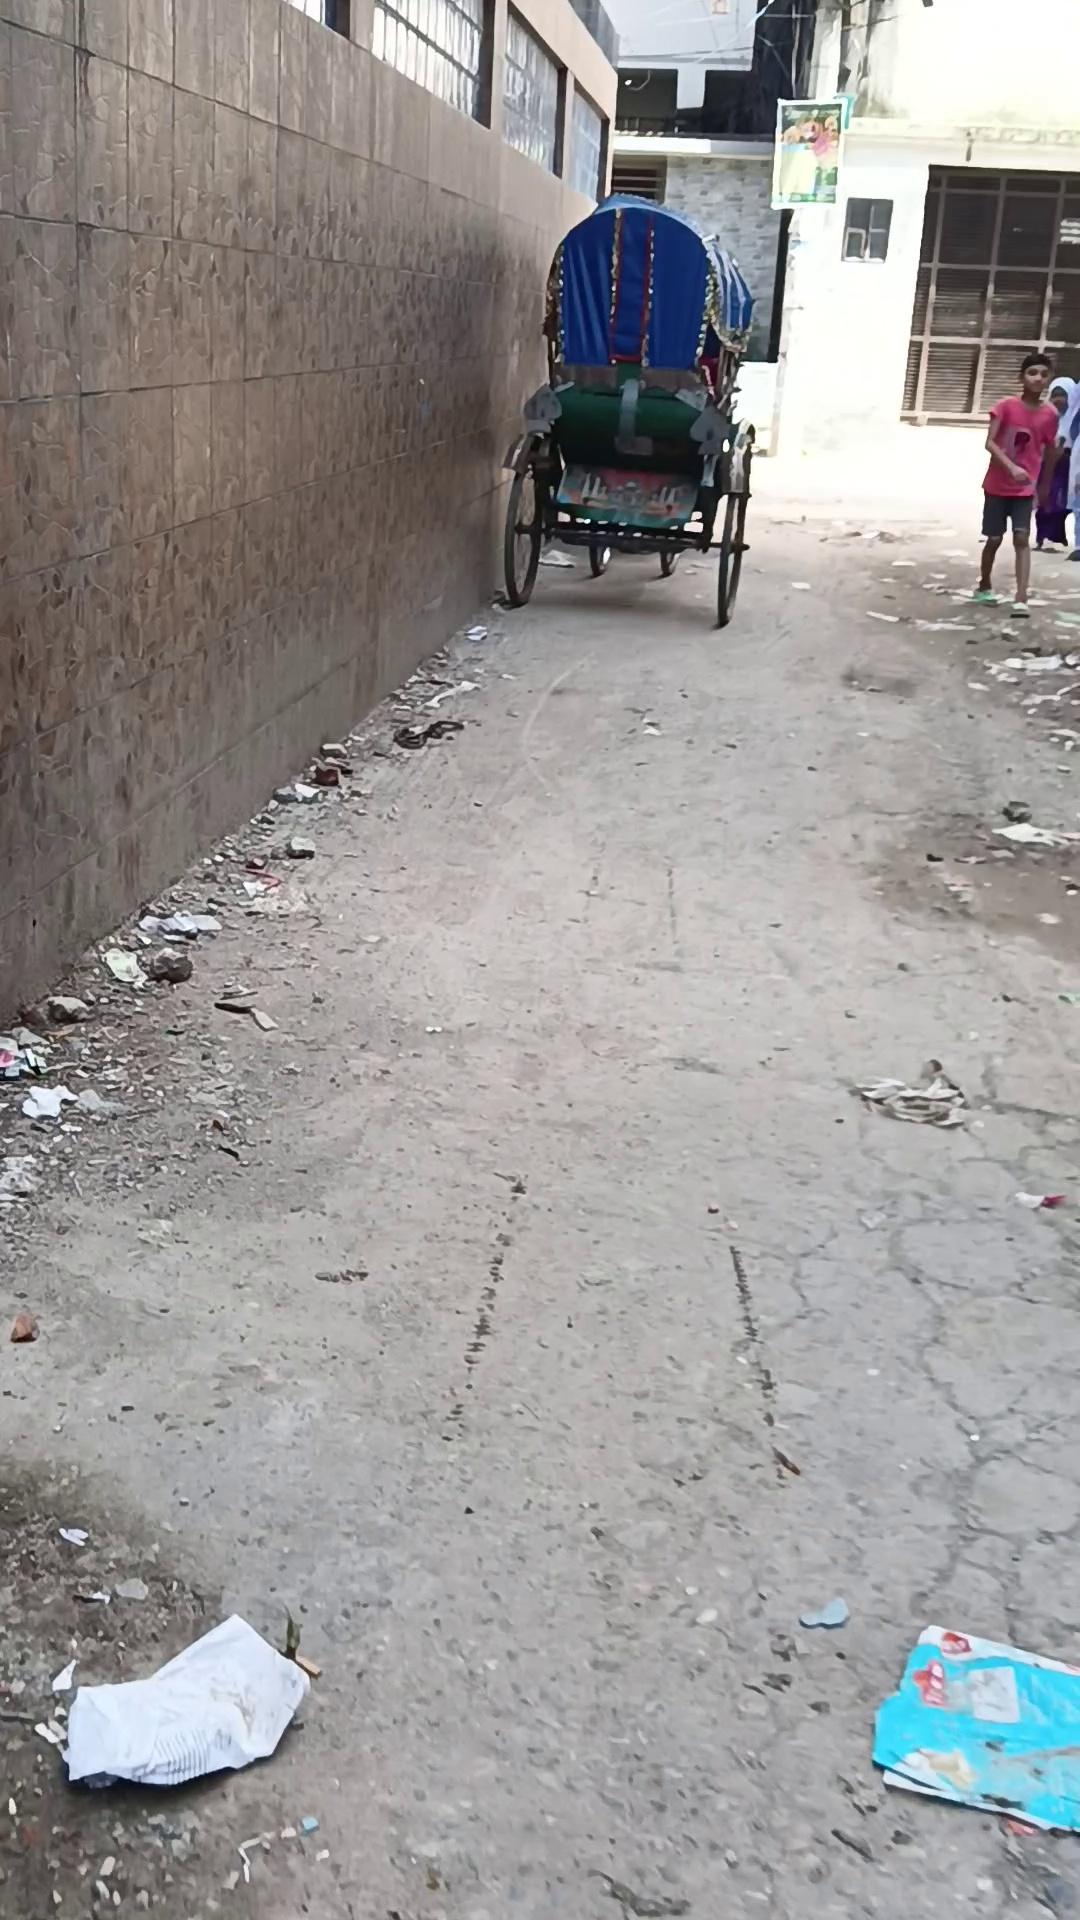Muddy road: (971, 352, 1062, 615), (1033, 376, 1079, 556)
Pothole: (498, 189, 758, 629)
Potted-plant: (3, 502, 1080, 1917)
